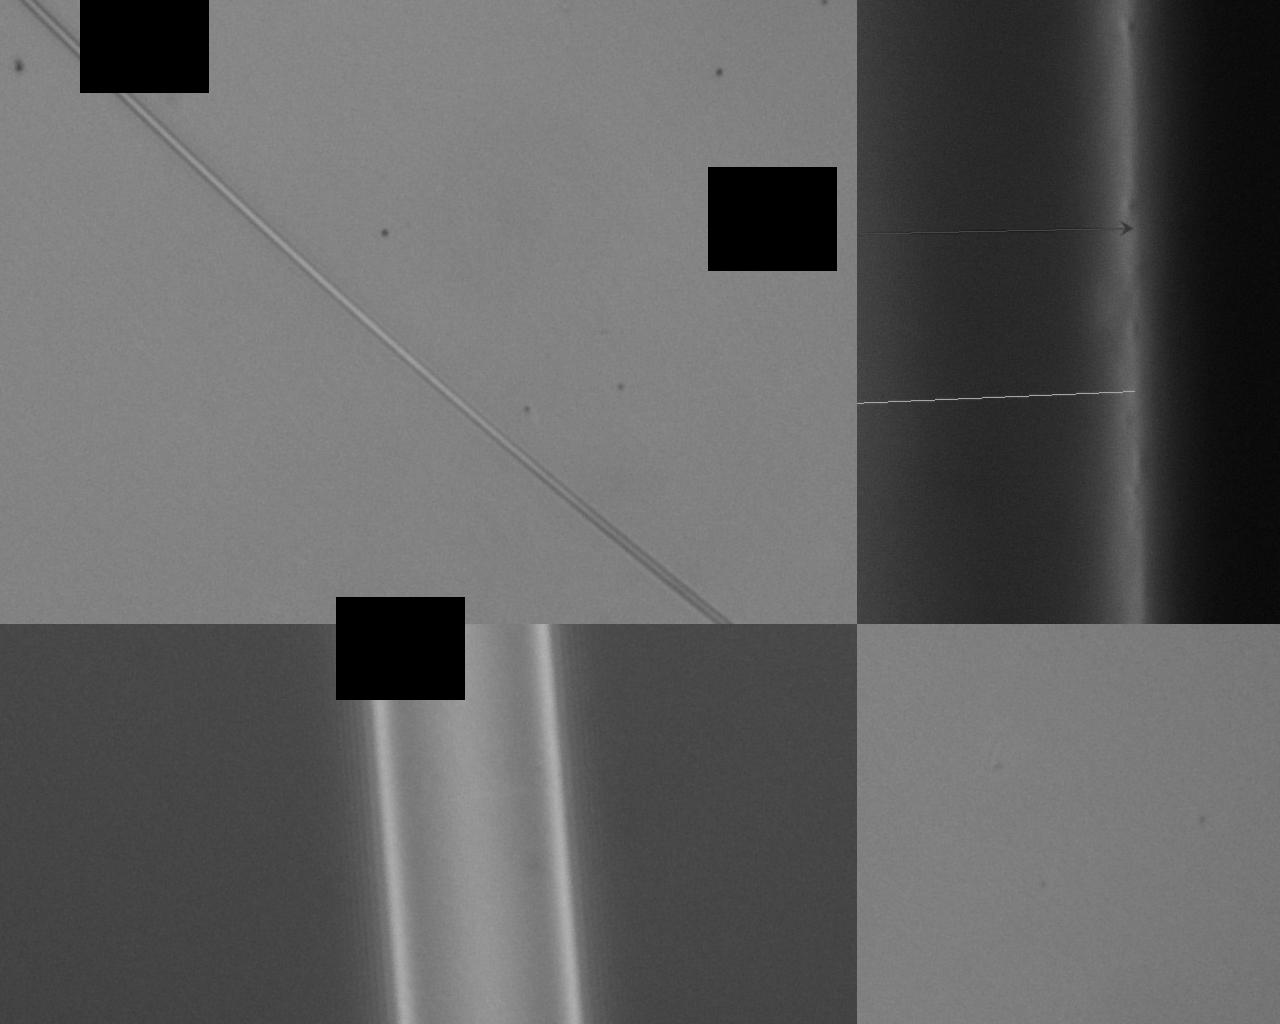fiber: (575, 5, 1097, 522), (460, 753, 1263, 1024), (320, 0, 460, 287)
